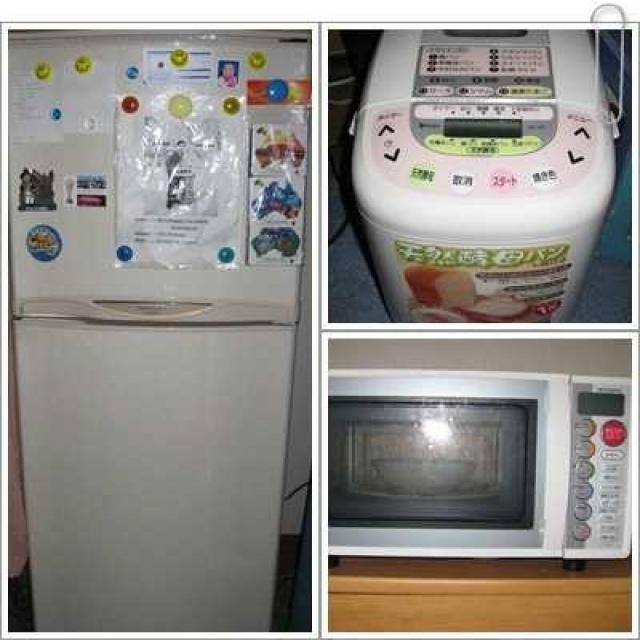refrigerator: (8, 12, 306, 640), (344, 17, 621, 320)
